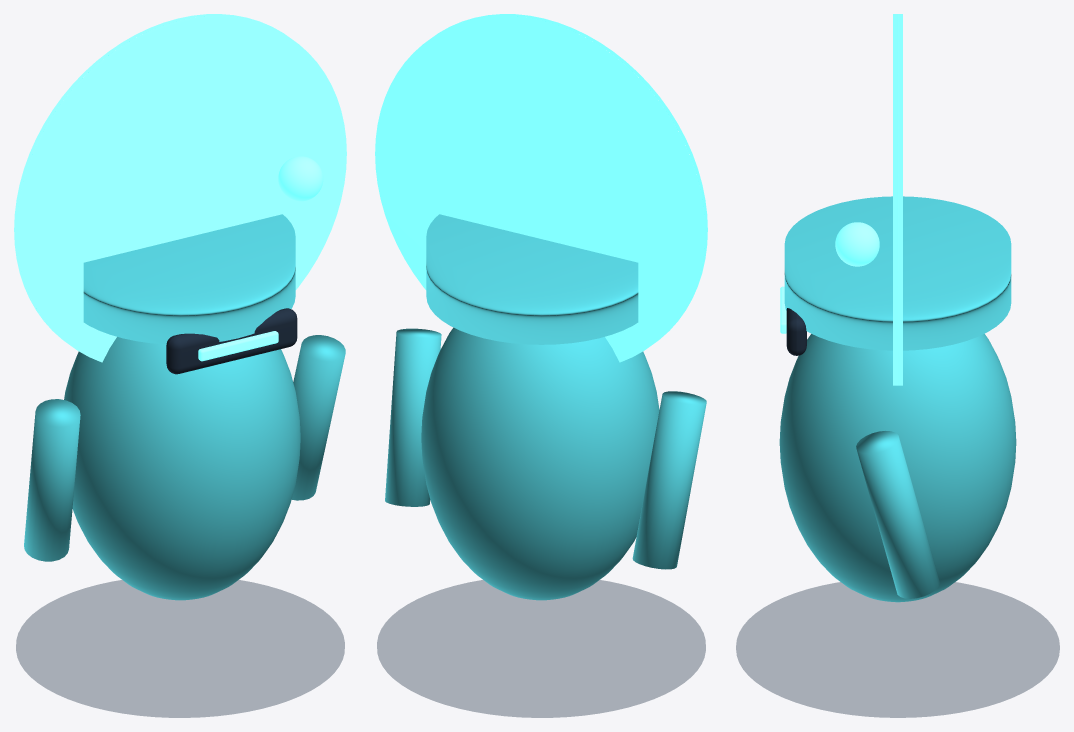
The model's file is atlas.glb.
The picture shows the model from 3 angles, left to right: view 1: azimuth 30°, elevation 25°; view 2: azimuth 150°, elevation 25°; view 3: azimuth 270°, elevation 25°; orthographic projection.
Visible parts, largest first — view 1: atlas_halo_ring, atlas_core_body, atlas_soft_shadow_disc, atlas_head_band, atlas_left_arm, atlas_right_arm, atlas_visor, atlas_status_beacon, atlas_visor_glow; view 2: atlas_halo_ring, atlas_core_body, atlas_soft_shadow_disc, atlas_head_band, atlas_left_arm, atlas_right_arm; view 3: atlas_core_body, atlas_soft_shadow_disc, atlas_head_band, atlas_right_arm, atlas_halo_ring, atlas_status_beacon, atlas_visor.
Boxes of the visible parts, bbox=[...] form: atlas_halo_ring: bbox=[14, 14, 346, 362]; atlas_core_body: bbox=[64, 337, 300, 600]; atlas_soft_shadow_disc: bbox=[16, 580, 344, 717]; atlas_head_band: bbox=[83, 214, 295, 344]; atlas_left_arm: bbox=[24, 399, 80, 561]; atlas_right_arm: bbox=[291, 335, 345, 500]; atlas_visor: bbox=[166, 308, 297, 374]; atlas_status_beacon: bbox=[278, 156, 323, 201]; atlas_visor_glow: bbox=[198, 331, 278, 361]; atlas_halo_ring: bbox=[375, 14, 707, 362]; atlas_core_body: bbox=[421, 327, 659, 600]; atlas_soft_shadow_disc: bbox=[377, 580, 705, 717]; atlas_head_band: bbox=[426, 214, 638, 344]; atlas_left_arm: bbox=[632, 391, 706, 569]; atlas_right_arm: bbox=[385, 328, 441, 506]; atlas_core_body: bbox=[779, 334, 1016, 602]; atlas_soft_shadow_disc: bbox=[736, 582, 1059, 717]; atlas_head_band: bbox=[784, 196, 1011, 350]; atlas_right_arm: bbox=[856, 431, 939, 598]; atlas_halo_ring: bbox=[893, 14, 902, 385]; atlas_status_beacon: bbox=[835, 222, 879, 266]; atlas_visor: bbox=[786, 308, 806, 355].
Bounding box in the file's own units: 0.92 × 1.69 × 0.8.
